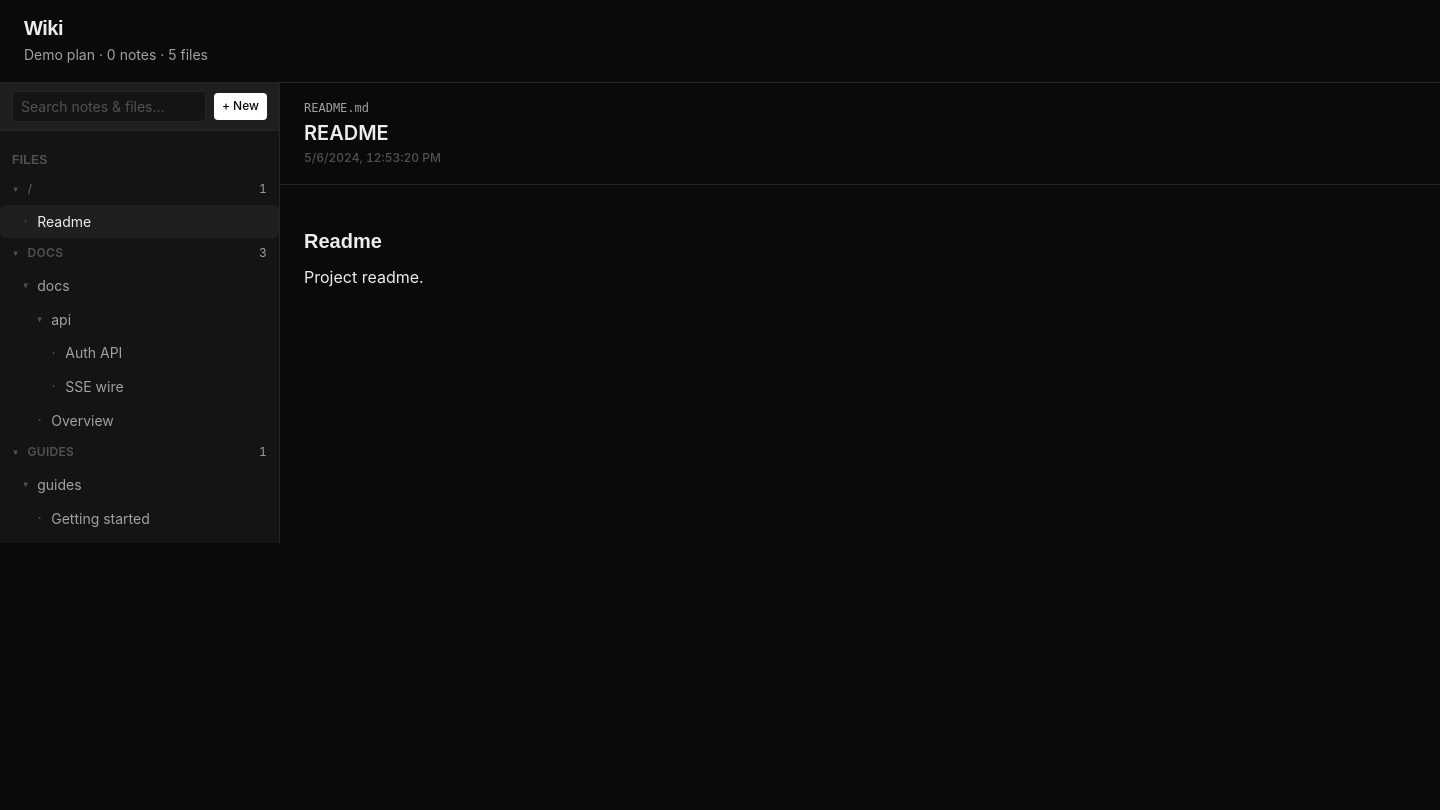
Test: WikiView (create modal) › opens the create modal when the + New button is clicked
The width and height of the screenshot is (1440, 810).
Click the button with test id "wiki-create-button": {"x": 240, "y": 106} [214,93,267,120]
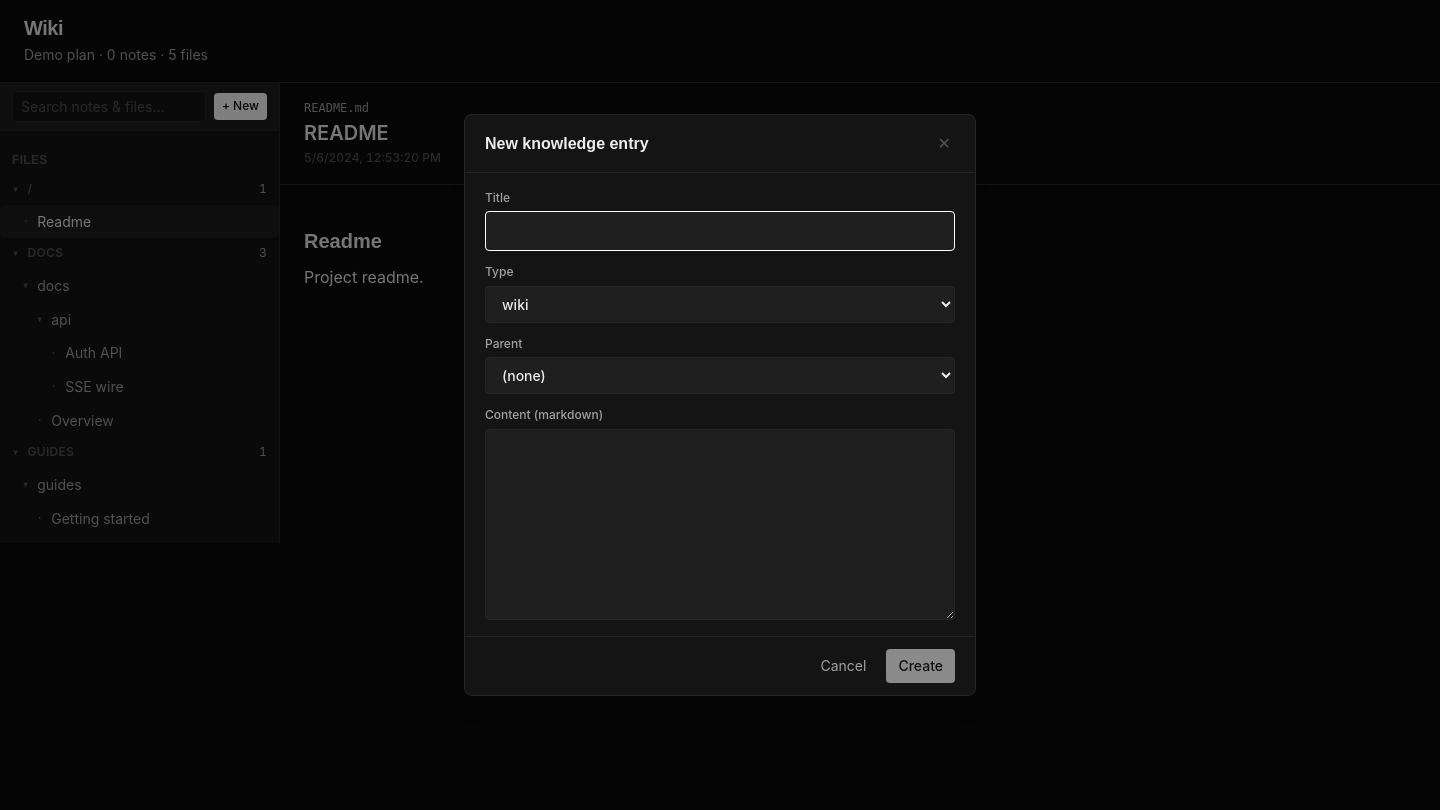
Expected: the dialog with test id "wiki-create-modal" is shown
